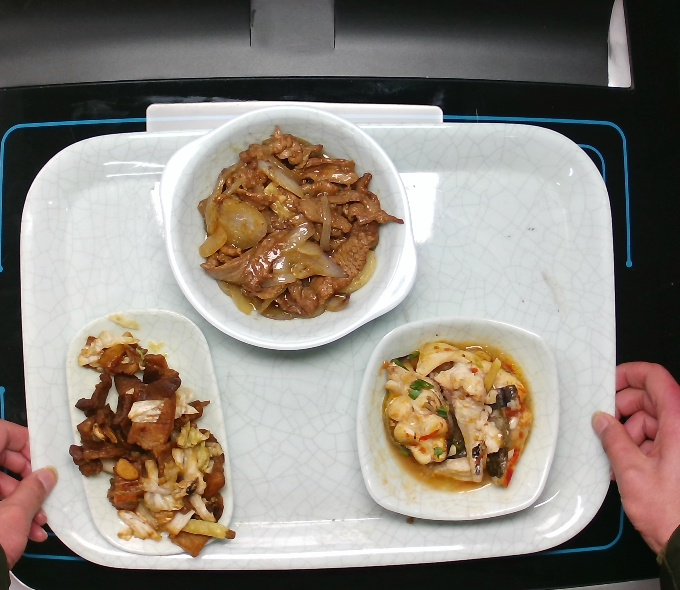wcq-DuoJiaoYuKuai: (381, 335, 537, 487)
wcq-PaoCaiRouPian: (57, 311, 244, 559)
wcq-YangCongRouPian: (189, 126, 404, 326)
